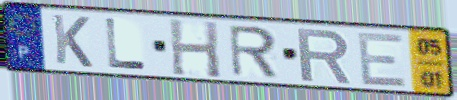E: (354, 31, 409, 90)
H: (166, 16, 223, 80)
K: (50, 12, 95, 70)
L: (102, 16, 149, 71)
R: (294, 26, 354, 86), (226, 23, 280, 80)
